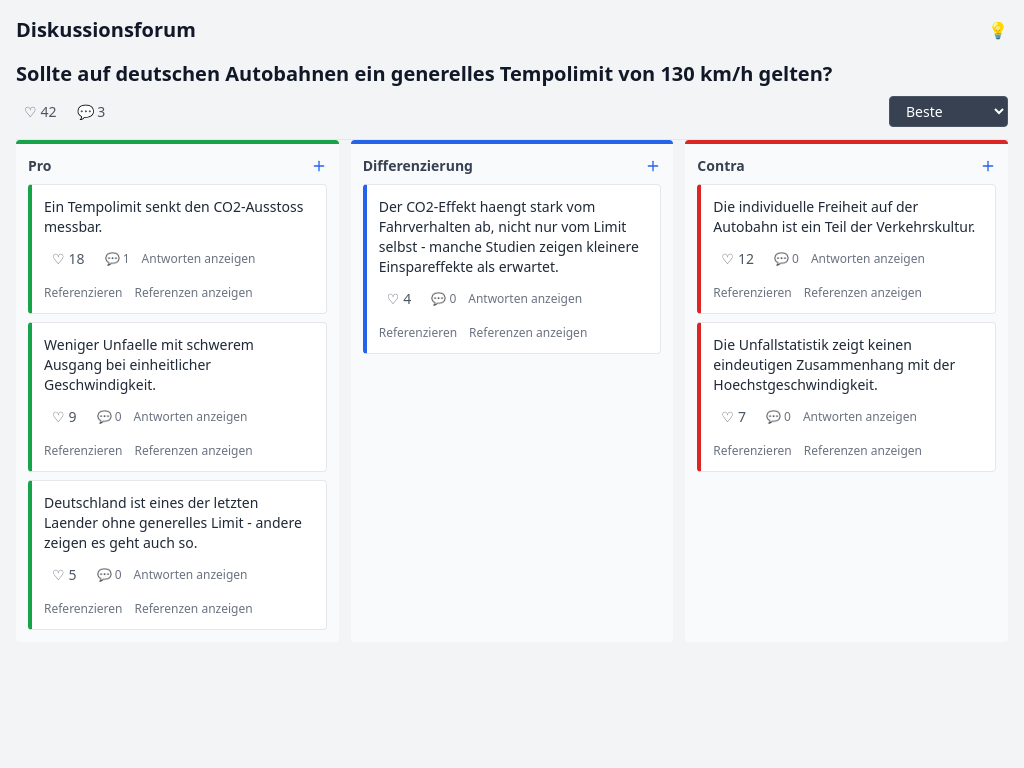
Test: ForumThread › "Idee oder Bug melden" icon next to the Diskussionsforum heading › opens the ReportIssueModal when logged in
The width and height of the screenshot is (1024, 768).
Expected: the heading "Sollte auf deutschen Autobahnen ein generelles Tempolimit von 130 km/h gelten?" is shown, [16,60,832,87]
Click the button named "Idee oder Bug melden": [998, 30] box [988,18,1008,42]
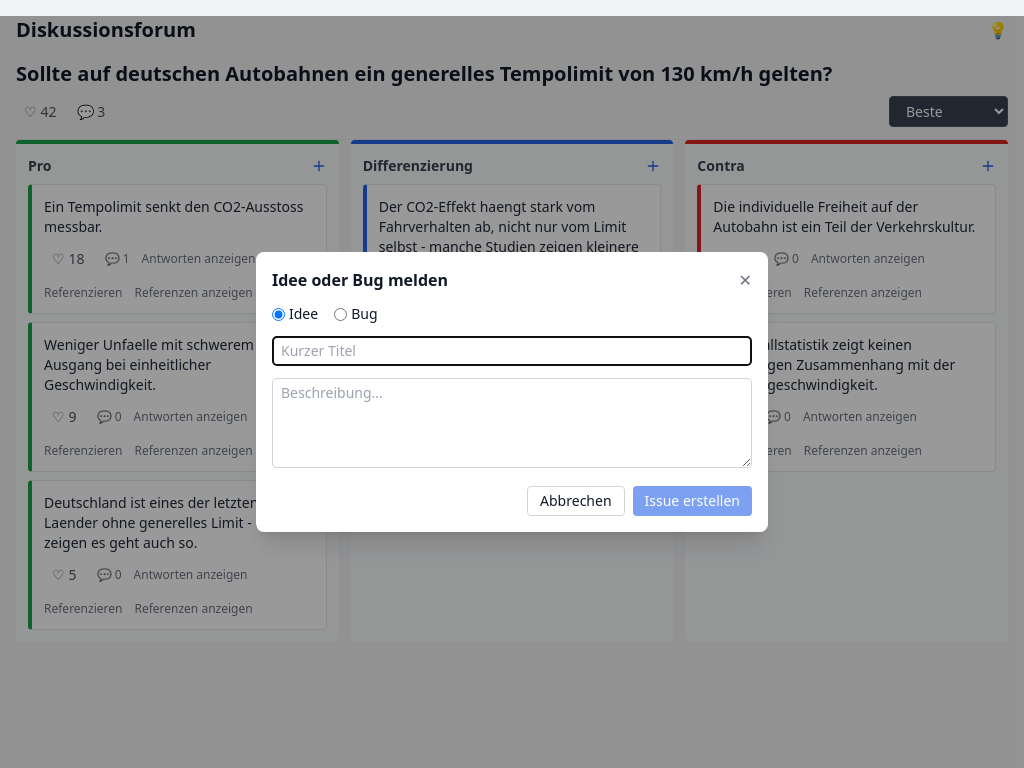
Result: the dialog "Idee oder Bug melden" is shown
